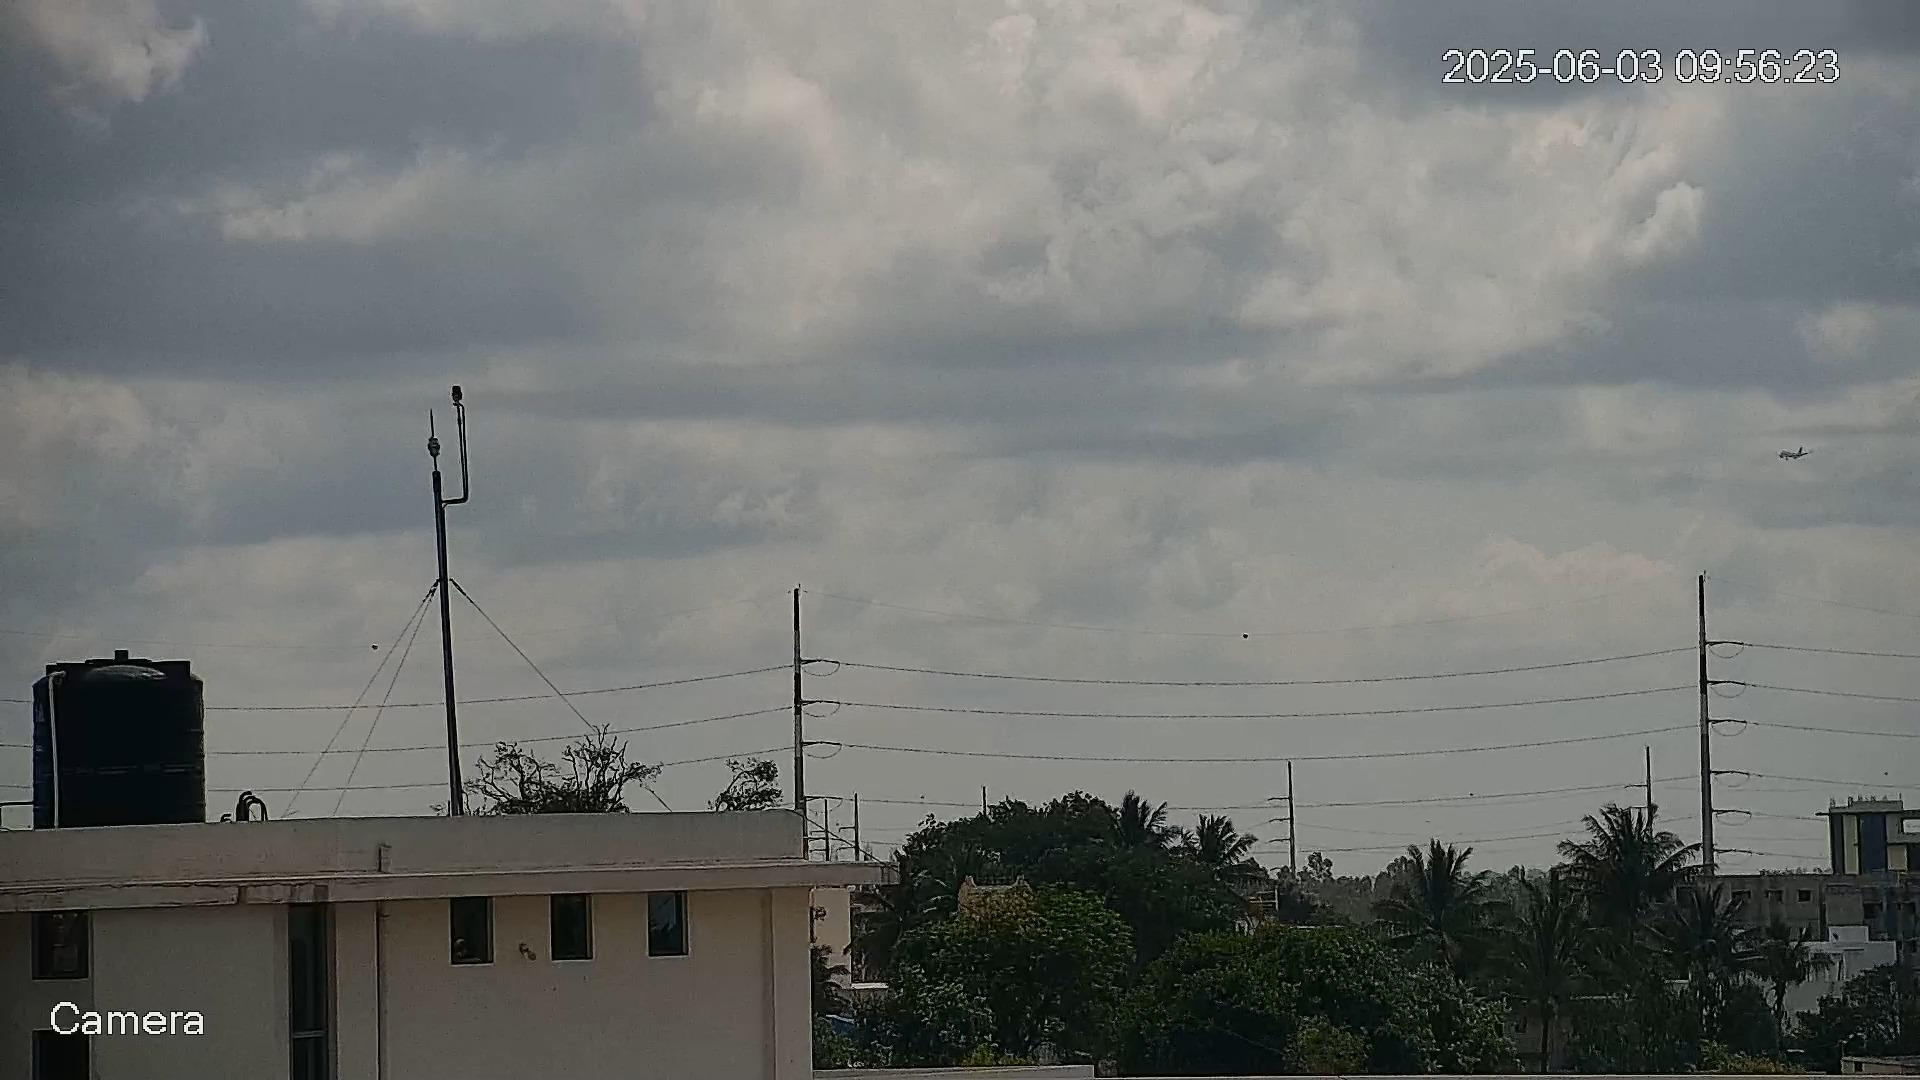Aircraft: (1778, 447, 1811, 460)
